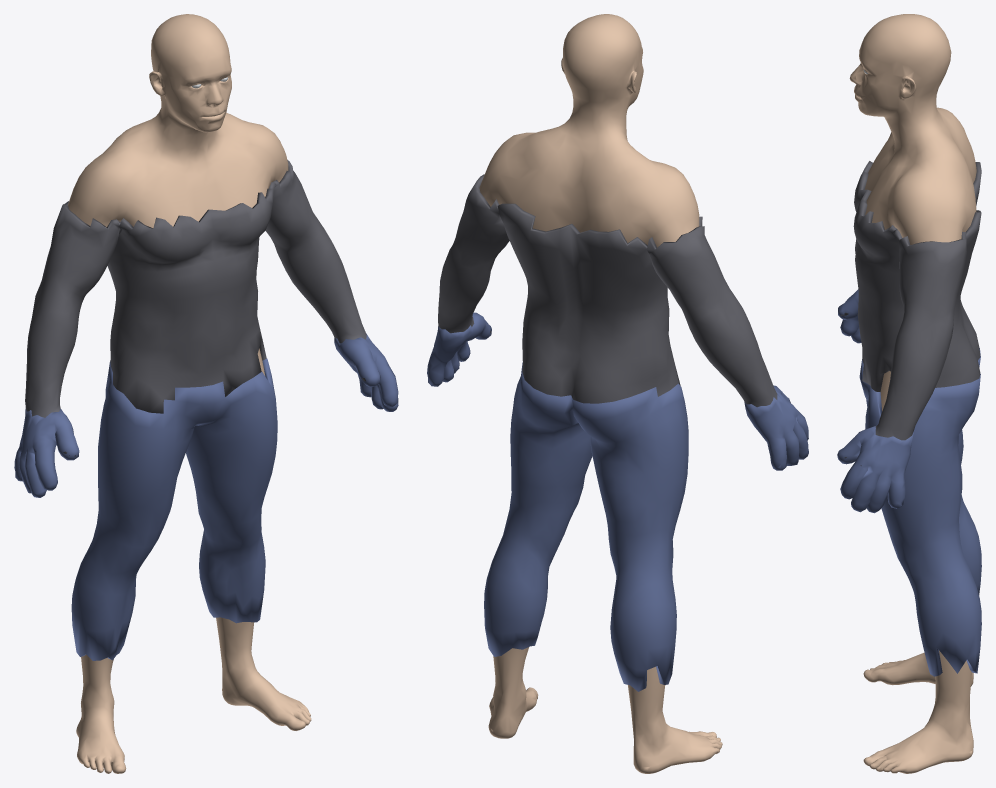
The model's file is variant_male_navy.glb.
3 renders of one model, left to right at view 1: azimuth 30°, elevation 25°; view 2: azimuth 150°, elevation 25°; view 3: azimuth 270°, elevation 25°, orthographic.
Parts seen in each view (by area): view 1: PeriHuman; view 2: PeriHuman; view 3: PeriHuman.
Part boxes in pixels (bbox=[...]): PeriHuman: bbox=[14, 14, 398, 773]; PeriHuman: bbox=[427, 14, 808, 773]; PeriHuman: bbox=[837, 14, 981, 773].
Size of the model in its own units: 0.9573 by 1.79 by 0.332.
